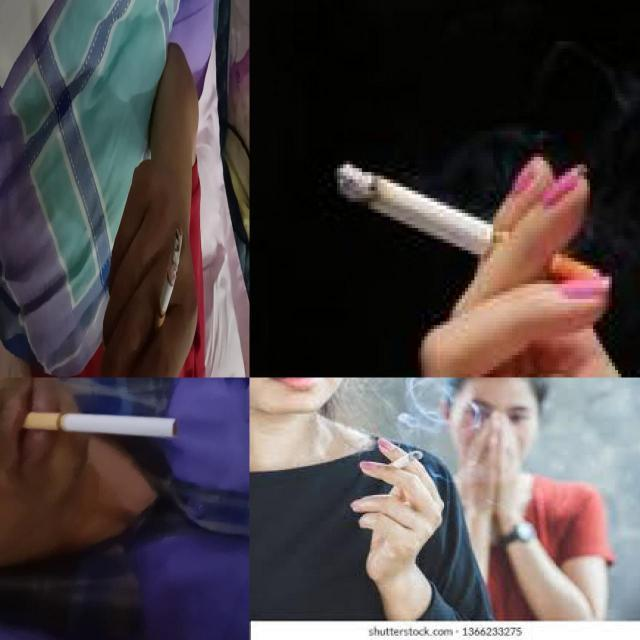cigarette: (333, 160, 603, 294), (21, 412, 180, 440), (149, 228, 183, 350), (381, 450, 424, 474)
